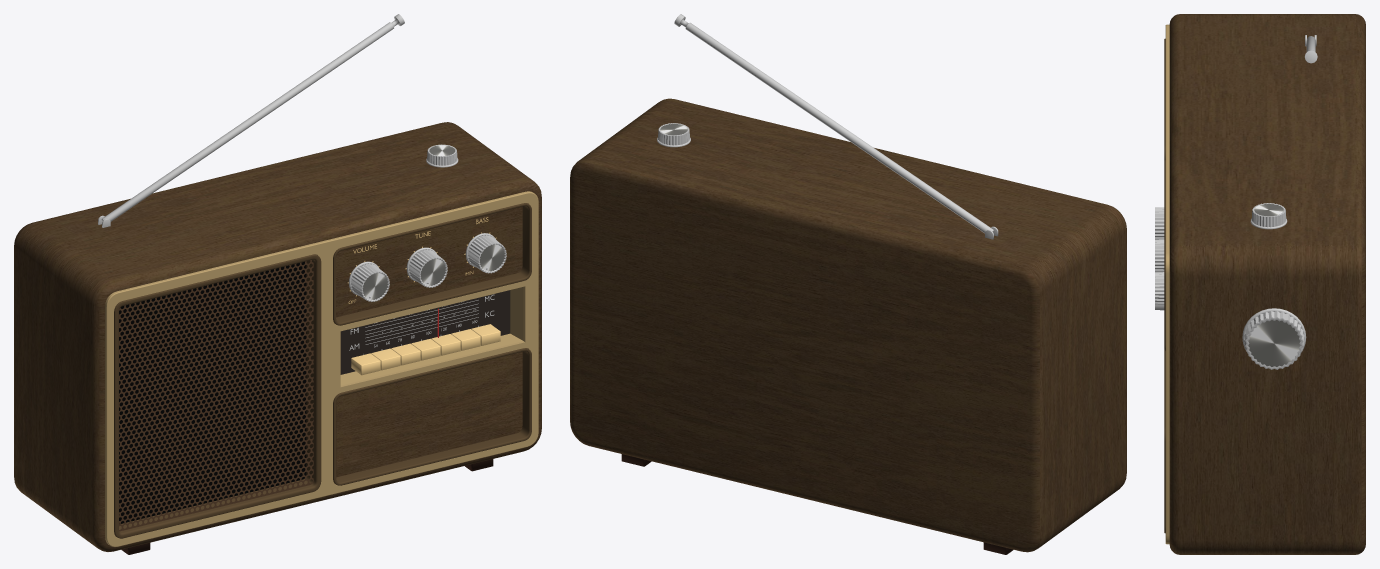
The model's file is radio-1.glb.
3 views of the same model, side by side, from view 1: azimuth 30°, elevation 25°; view 2: azimuth 150°, elevation 25°; view 3: azimuth 270°, elevation 25° (orthographic). The views are drawn at different scales.
Parts seen in each view (by area): view 1: Radio Box, Speaker Grill, Speaker Backplate, Controls Backplate, Radio Box Frame, Speaker Padding, Tuner Backplate, Bottom Padding, Controls Padding, Antenna, Tuner Marking Lines, Knob_2 (+2 smaller); view 2: Radio Box, Antenna; view 3: Radio Box, Knob_5, Radio Box Frame, Knob_4, Knob_3, Controls Padding, Knob_5 Ring, Bottom Padding, Knob_2, Knob_1, Antenna.
Boxes of the visible parts, x1=… form: Radio Box: x1=14, y1=122, x2=541, y2=551; Speaker Grill: x1=119, y1=260, x2=313, y2=531; Speaker Backplate: x1=119, y1=261, x2=306, y2=523; Controls Backplate: x1=336, y1=206, x2=522, y2=477; Radio Box Frame: x1=105, y1=191, x2=538, y2=546; Speaker Padding: x1=114, y1=254, x2=321, y2=538; Tuner Backplate: x1=340, y1=290, x2=510, y2=374; Bottom Padding: x1=333, y1=348, x2=531, y2=485; Controls Padding: x1=333, y1=203, x2=531, y2=325; Antenna: x1=101, y1=14, x2=404, y2=221; Tuner Marking Lines: x1=365, y1=300, x2=478, y2=344; Knob_2: x1=408, y1=249, x2=447, y2=287; Radio Box: x1=570, y1=98, x2=1126, y2=552; Antenna: x1=674, y1=14, x2=994, y2=233; Radio Box: x1=1169, y1=14, x2=1365, y2=554; Knob_5: x1=1244, y1=311, x2=1304, y2=369; Radio Box Frame: x1=1165, y1=24, x2=1169, y2=544; Knob_4: x1=1251, y1=203, x2=1286, y2=227; Knob_3: x1=1155, y1=272, x2=1164, y2=310; Controls Padding: x1=1164, y1=160, x2=1165, y2=351; Knob_5 Ring: x1=1242, y1=308, x2=1306, y2=353; Bottom Padding: x1=1164, y1=351, x2=1165, y2=533; Knob_2: x1=1155, y1=239, x2=1164, y2=272; Knob_1: x1=1155, y1=207, x2=1164, y2=239; Antenna: x1=1304, y1=36, x2=1317, y2=63.
Size of the model in its own units: 3.06 by 2.68 by 1.07.
Materials: 12 (2 with a texture image).
